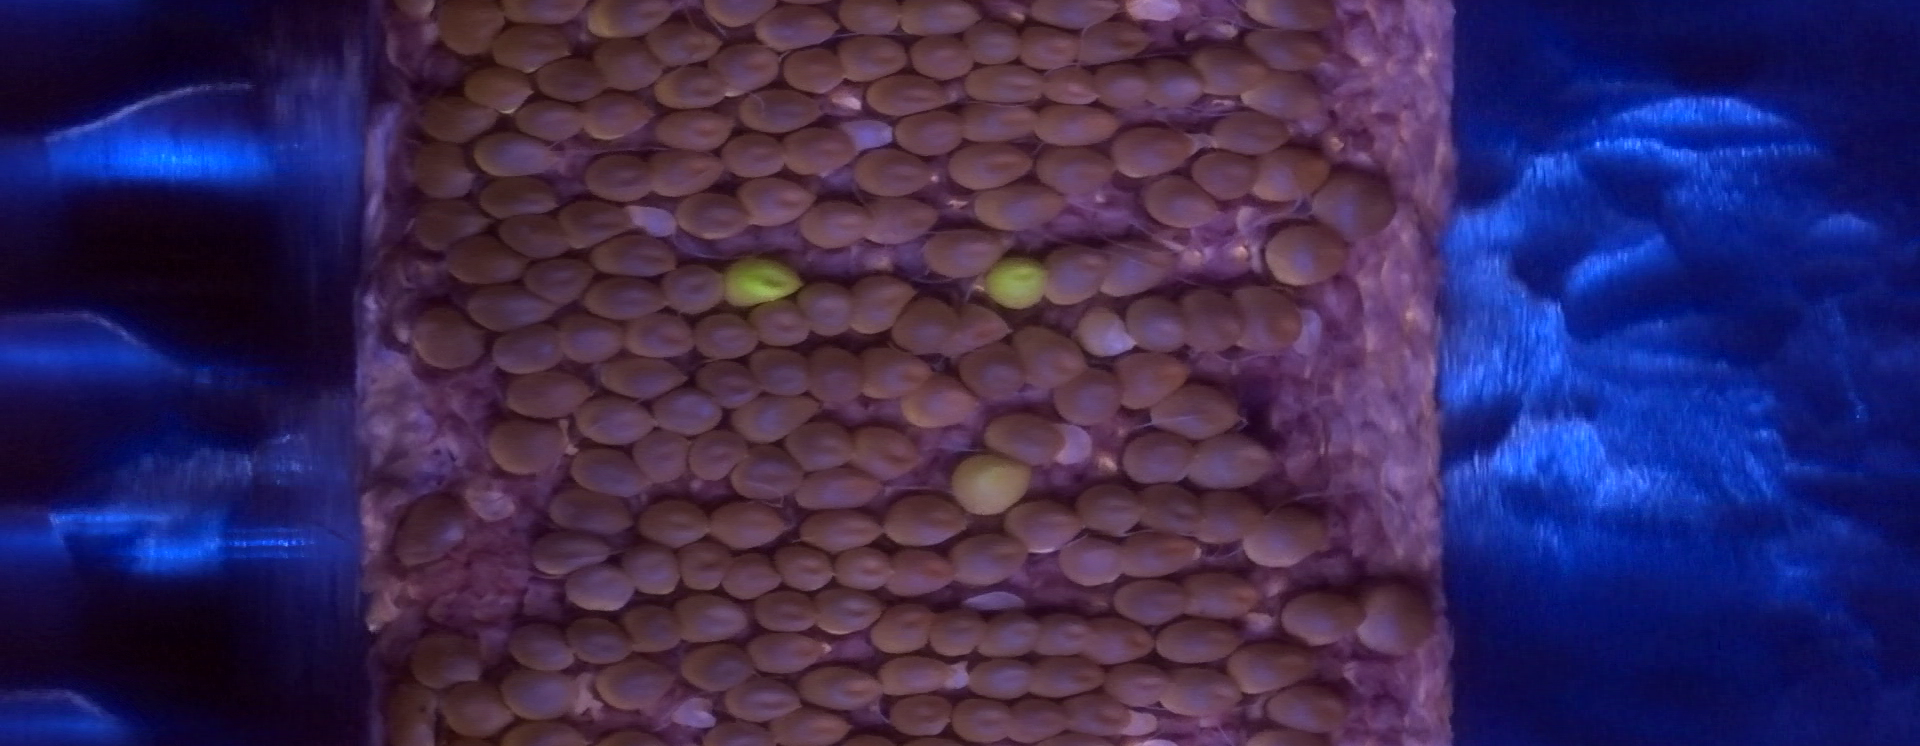fluorescent: (947, 452, 1025, 513), (720, 249, 802, 304), (989, 257, 1051, 314)
nonfluorescent: (391, 492, 469, 570), (1314, 165, 1393, 236), (1365, 579, 1435, 660), (1260, 225, 1349, 285), (1280, 587, 1364, 649), (1244, 503, 1321, 570), (973, 180, 1071, 230), (407, 306, 479, 372), (594, 227, 680, 282), (501, 371, 594, 421), (433, 681, 516, 737), (1227, 639, 1318, 690), (1236, 281, 1300, 350), (962, 336, 1033, 399), (1195, 434, 1273, 491), (797, 507, 887, 557), (1255, 146, 1335, 202), (1111, 121, 1190, 178), (1015, 326, 1085, 390), (576, 390, 658, 443), (885, 490, 969, 543), (408, 631, 484, 688), (984, 414, 1073, 463), (1119, 348, 1194, 405), (1147, 173, 1217, 234), (1239, 70, 1320, 122), (857, 342, 936, 396), (795, 463, 885, 510), (549, 489, 637, 537), (599, 657, 673, 713), (904, 374, 980, 429), (571, 442, 647, 497), (1155, 385, 1238, 435), (736, 85, 820, 134), (924, 225, 1007, 276), (493, 420, 566, 477), (476, 130, 563, 176), (733, 391, 818, 439), (708, 496, 786, 548), (407, 138, 476, 196), (1120, 431, 1191, 488), (1178, 573, 1258, 624), (1120, 526, 1198, 577), (1104, 240, 1174, 296), (1184, 284, 1240, 354), (1152, 619, 1237, 665), (560, 198, 636, 250), (594, 33, 658, 94), (1080, 479, 1144, 540), (711, 40, 776, 100), (1198, 490, 1264, 549), (795, 666, 883, 710), (947, 143, 1032, 189), (585, 273, 669, 320), (449, 232, 527, 282), (433, 2, 507, 55), (951, 530, 1021, 586), (1215, 104, 1289, 156), (601, 356, 688, 401), (851, 426, 922, 480), (782, 418, 853, 472), (495, 209, 571, 260), (636, 497, 711, 548), (743, 179, 816, 232), (655, 383, 724, 439), (1251, 32, 1332, 78), (648, 60, 722, 110), (1011, 500, 1082, 552), (1033, 105, 1120, 148), (1040, 143, 1116, 192), (756, 2, 838, 48), (1269, 684, 1348, 730), (730, 447, 800, 500), (405, 202, 489, 246), (1047, 249, 1109, 307), (1198, 44, 1266, 97), (756, 630, 830, 677), (493, 29, 574, 73), (838, 37, 918, 81), (965, 66, 1046, 110), (1127, 295, 1185, 355), (1058, 366, 1117, 426), (1067, 692, 1135, 744), (853, 276, 915, 333), (1142, 481, 1205, 538), (504, 673, 578, 720), (1164, 666, 1234, 717), (492, 328, 562, 379), (583, 149, 649, 202), (1060, 530, 1120, 588), (797, 283, 857, 341), (806, 344, 862, 405), (681, 190, 749, 240), (1071, 303, 1134, 358), (721, 675, 795, 722), (888, 549, 953, 601), (654, 107, 733, 149), (530, 529, 610, 572), (648, 149, 722, 195), (624, 541, 681, 601), (688, 315, 760, 361), (816, 586, 880, 637), (1191, 153, 1261, 201), (857, 149, 931, 195), (719, 130, 785, 180), (880, 654, 955, 698), (867, 200, 936, 247), (622, 307, 691, 355), (894, 300, 958, 352), (567, 565, 636, 612), (896, 113, 969, 158), (684, 643, 756, 688), (567, 612, 629, 664), (718, 548, 781, 598), (525, 257, 598, 301), (1075, 17, 1151, 59), (470, 282, 546, 323), (1104, 661, 1171, 709), (629, 604, 691, 655), (782, 127, 853, 171), (1005, 697, 1069, 746), (587, 94, 655, 140), (871, 601, 928, 655), (962, 102, 1035, 145), (775, 706, 851, 746), (1029, 654, 1104, 695), (467, 66, 534, 111), (507, 624, 571, 671), (969, 657, 1032, 704), (954, 300, 1014, 350), (1035, 611, 1095, 661), (868, 72, 940, 114), (558, 318, 631, 360), (749, 586, 816, 631), (1020, 22, 1082, 70), (667, 265, 726, 315), (753, 344, 812, 394), (693, 356, 756, 403), (683, 432, 736, 488), (589, 2, 673, 37), (1097, 59, 1153, 110), (923, 606, 981, 657), (421, 97, 495, 136), (676, 594, 744, 636), (636, 431, 688, 485), (1095, 614, 1153, 661), (1040, 61, 1100, 108), (754, 299, 811, 348), (654, 24, 720, 66), (517, 97, 583, 138), (804, 202, 862, 250), (481, 176, 553, 214), (784, 48, 842, 94), (984, 610, 1036, 663), (955, 696, 1011, 744), (913, 34, 972, 80), (1119, 582, 1183, 624), (535, 62, 605, 100), (891, 696, 953, 739), (835, 545, 889, 593), (902, 1, 976, 36), (781, 544, 835, 590), (1150, 58, 1202, 104), (966, 23, 1020, 69), (684, 533, 725, 593), (835, 1, 902, 37), (1249, 1, 1333, 29)
